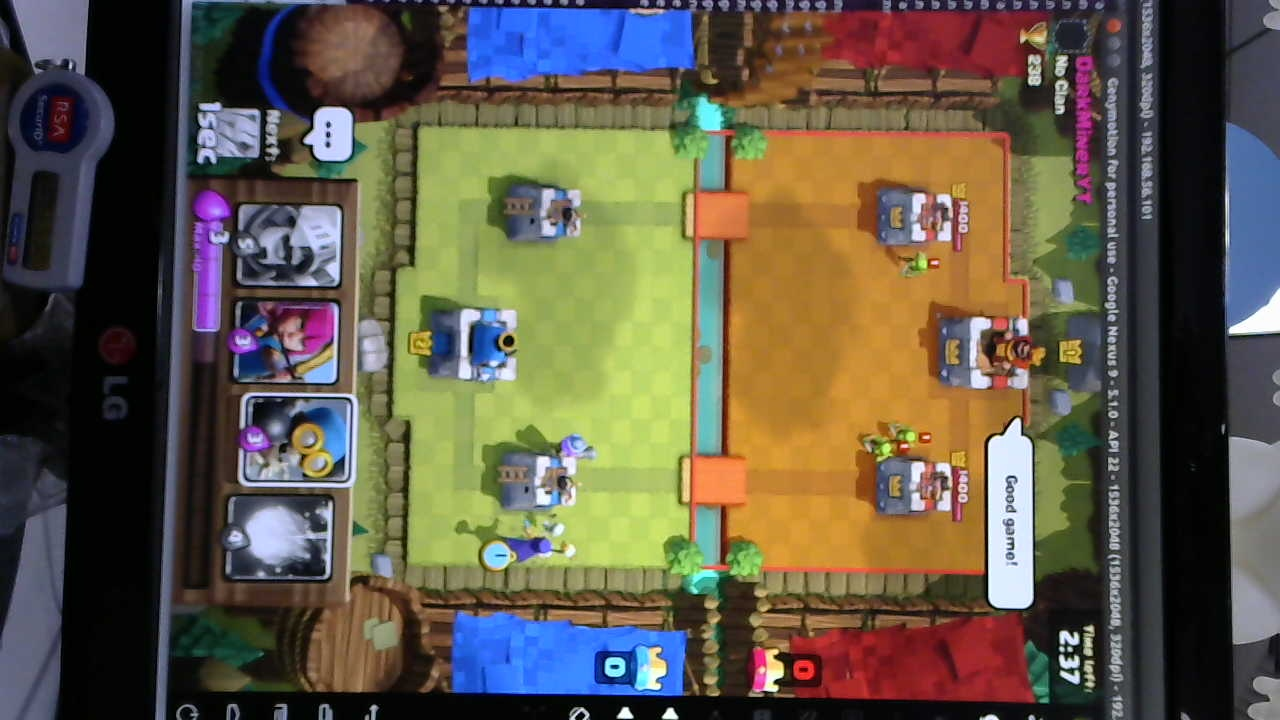arena: (500, 178, 584, 243), (499, 449, 578, 515)
earena: (879, 451, 952, 520), (879, 184, 954, 246)
eking: (937, 315, 1041, 387)
goblin: (887, 249, 942, 279)
goblins: (859, 420, 926, 456)
king: (432, 305, 523, 381)
musketeer: (544, 434, 599, 463)
witch: (493, 527, 569, 569)
